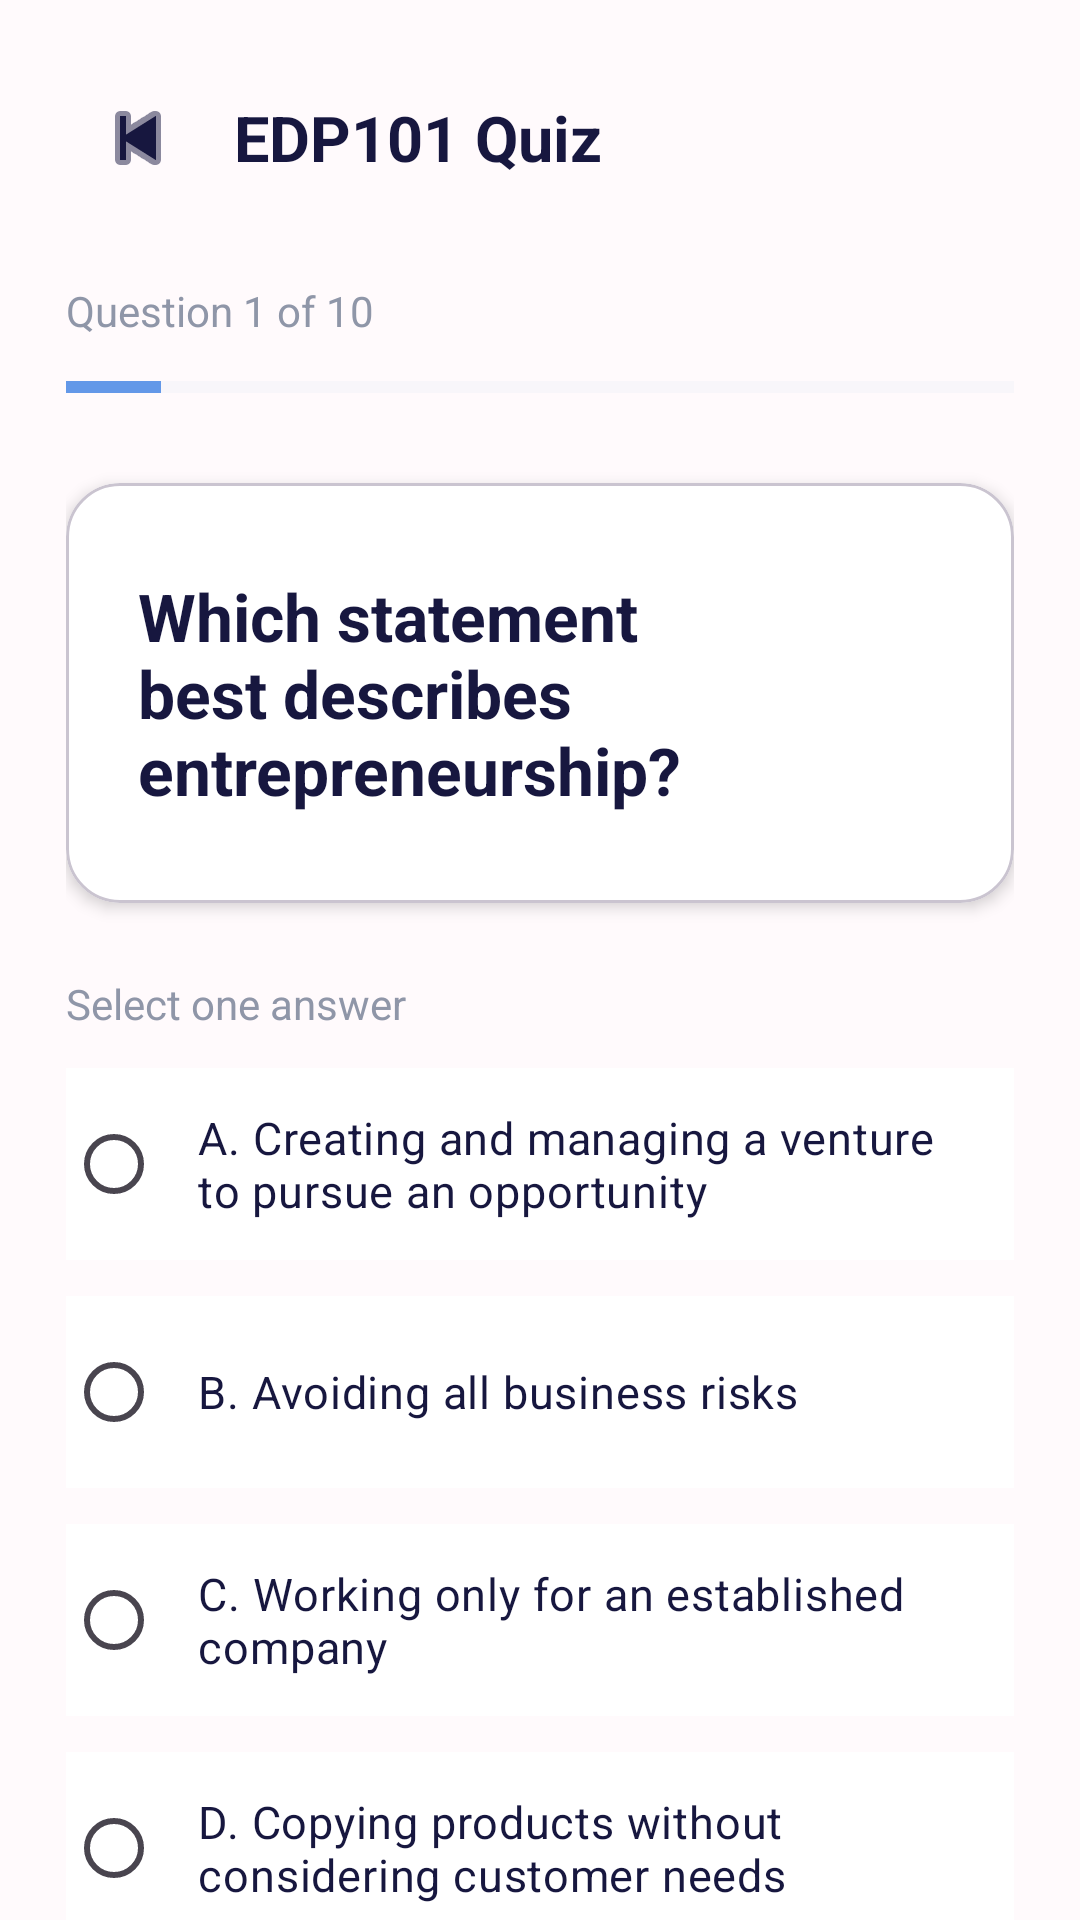

Icons on this 1080w x 1920h Android screen, each with its box as (x1, y1, x2, y2):
Go back: (115, 111, 161, 165)
